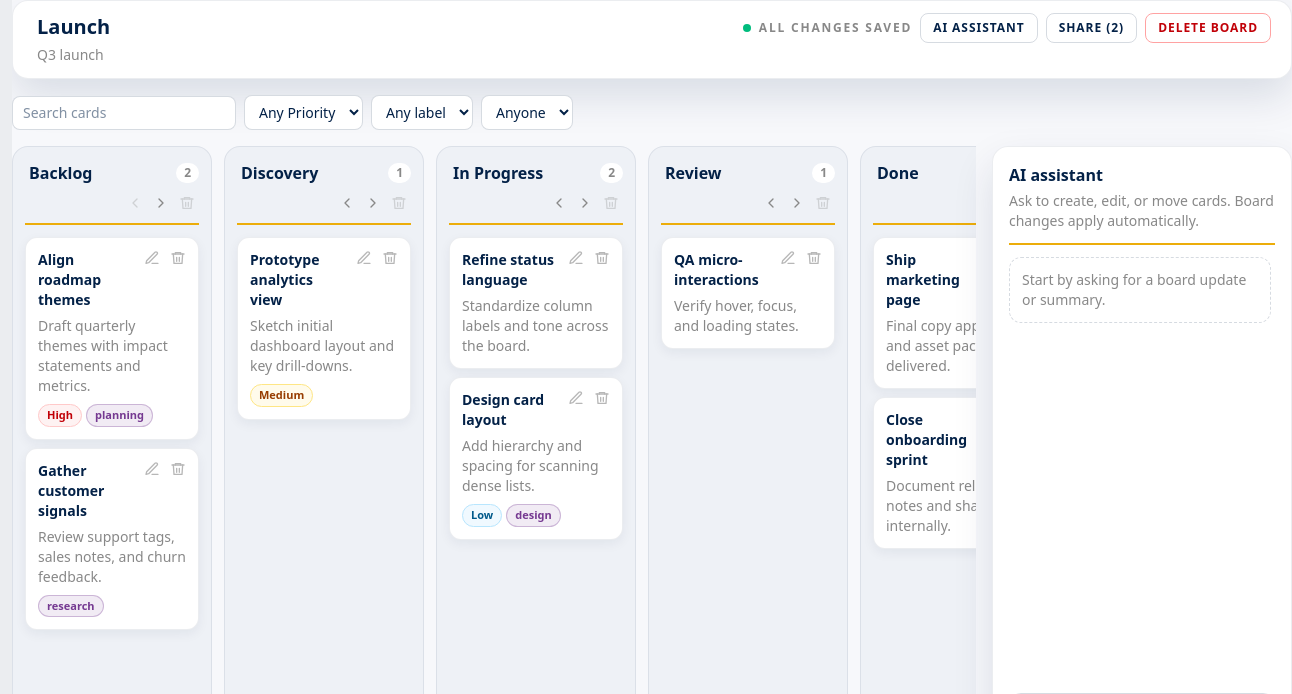
Scenario: KanbanBoard › edits a card's fields
The width and height of the screenshot is (1292, 694).
Click the button named "Edit Align roadmap themes". click: (152, 258)
box: [140,246,164,270]
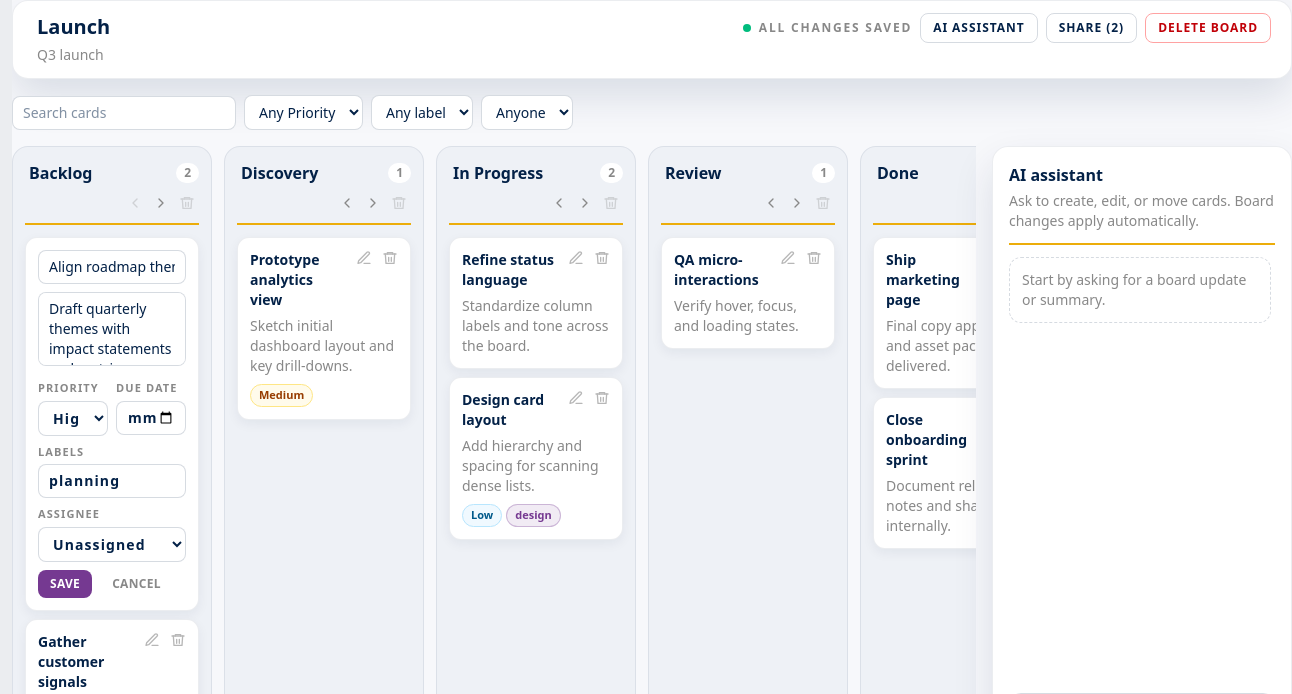
Replace the text in the field named "Card title" with "Edited title". click: (112, 267)
box: [38,250,186,284]
Select "low" in the dropdown labelled "Priority". click: (73, 418)
box: [38,400,108,436]
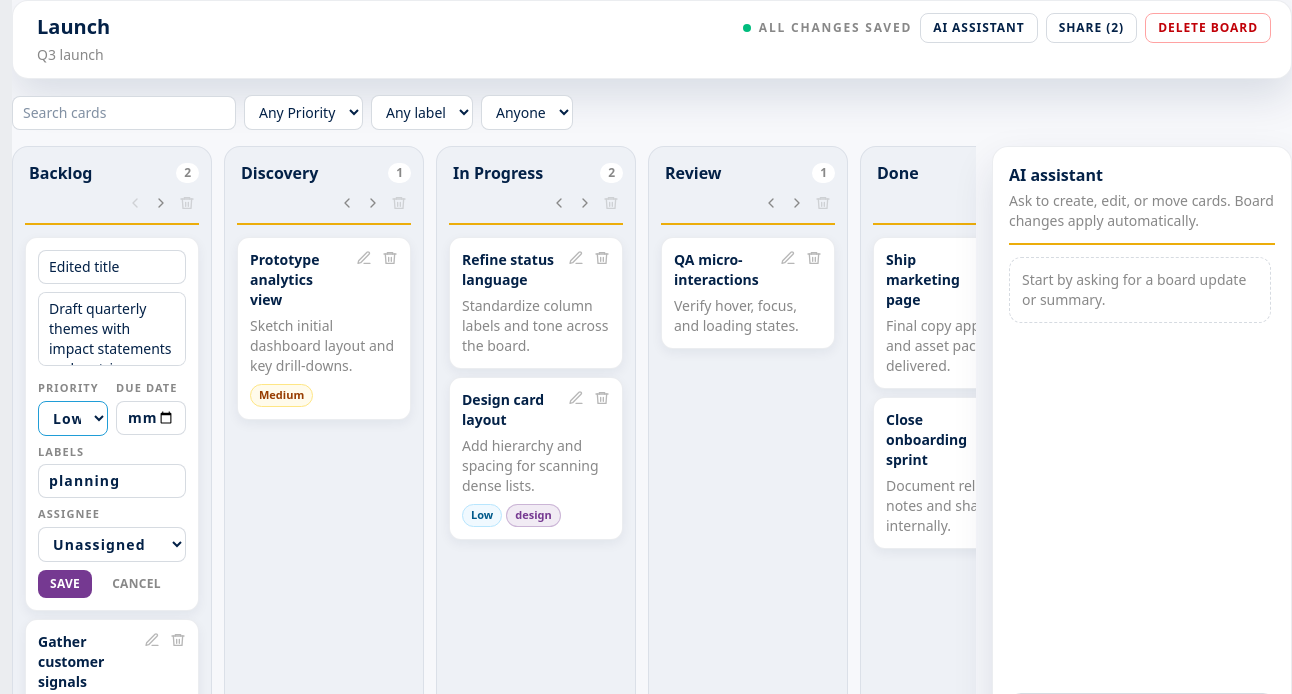
Type "2020-05-01" into the date field labelled "Due date". click: (151, 418)
box: [116,400,186,434]
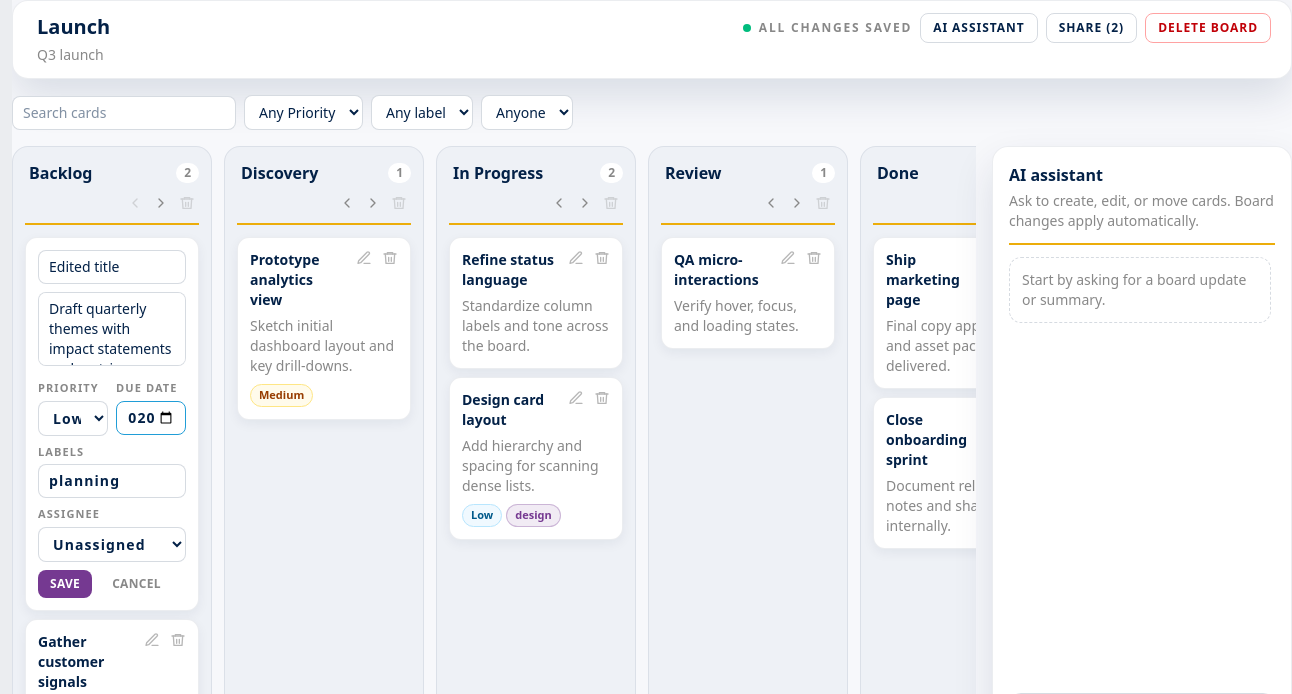
Replace the text in the field labelled "Labels" with "ops, infra". click: (112, 481)
box: [38,464,186,498]
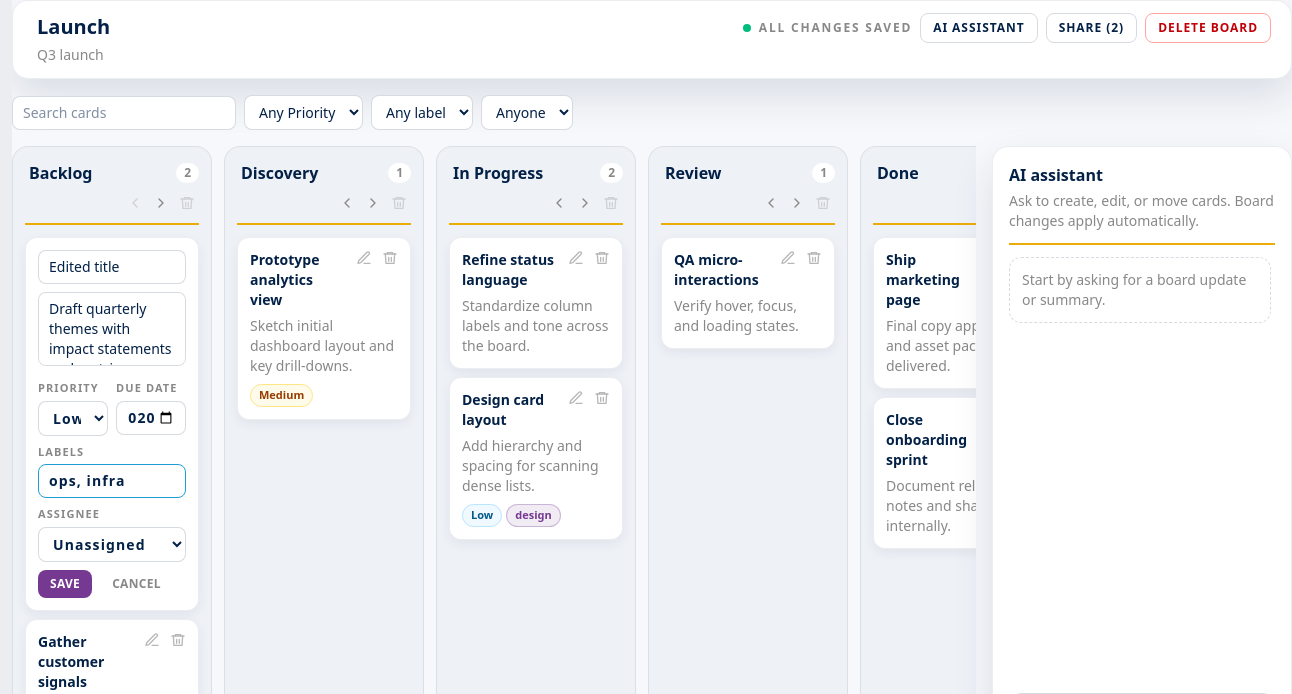
Select "alice" in the dropdown labelled "Assignee". click: (112, 544)
box: [38,526,186,562]
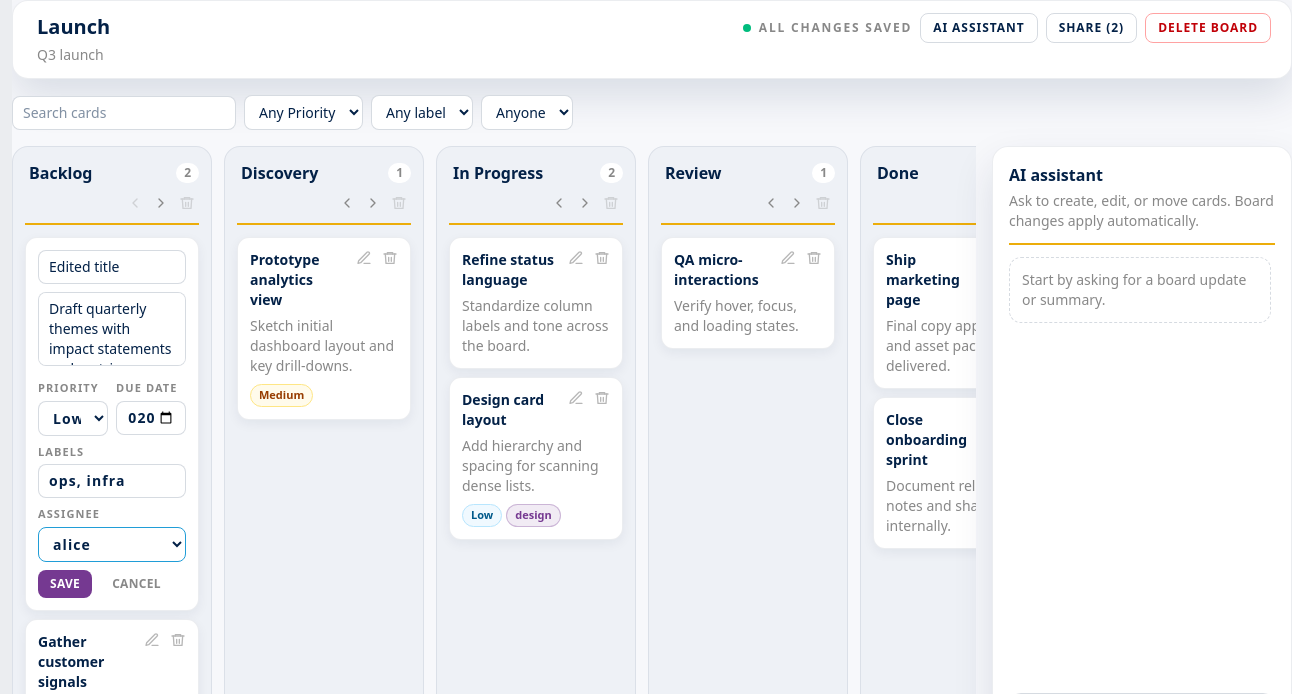
Click the button "Save". click: (65, 584)
box: [38,570,92,598]
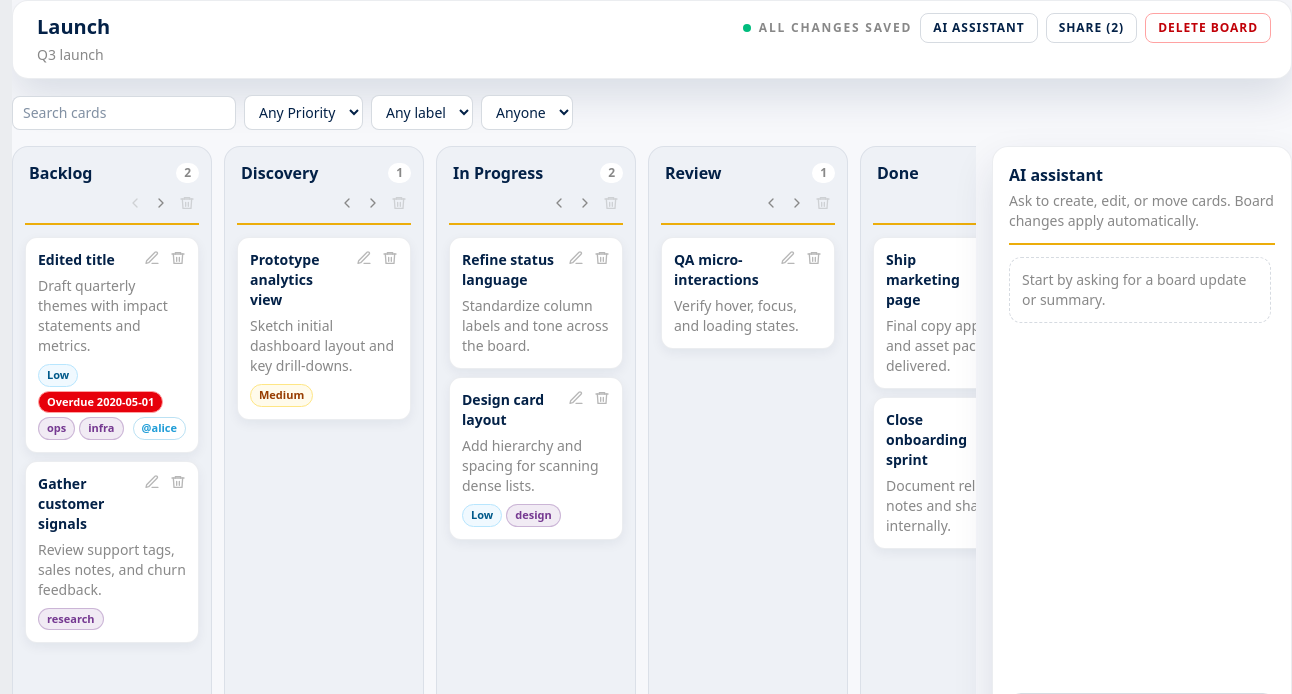
Now the heading "Edited title" is shown, box [38,250,115,269]
Now the 1st text "low" is shown, box [38,364,78,386]
Now the text "Overdue 2020-05-01" is shown, box [38,390,163,413]
